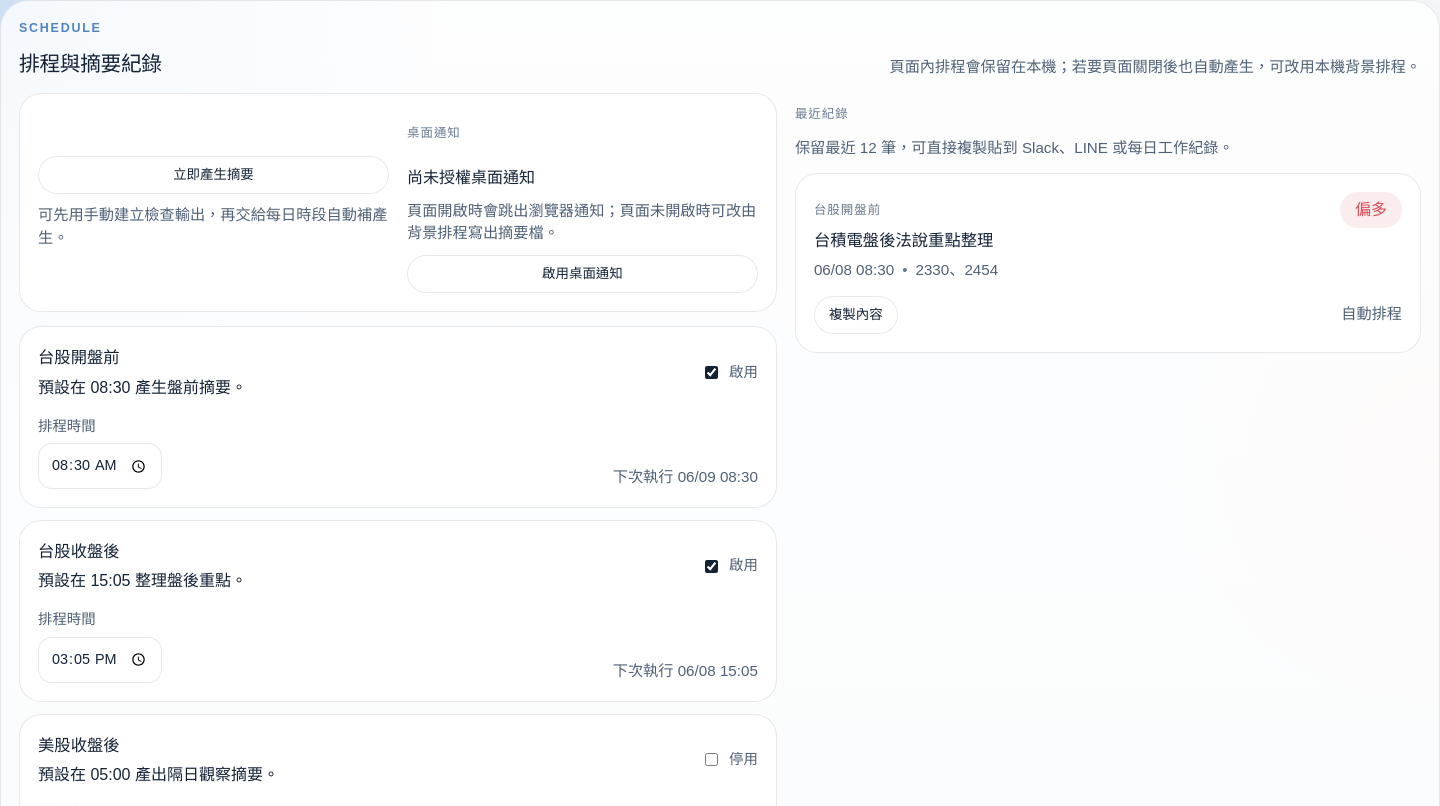
Test case: SchedulePanel › requests browser notification permission from the schedule panel
Step 1. Click the button "啟用桌面通知" → (582, 274), box [407,255,758,293]
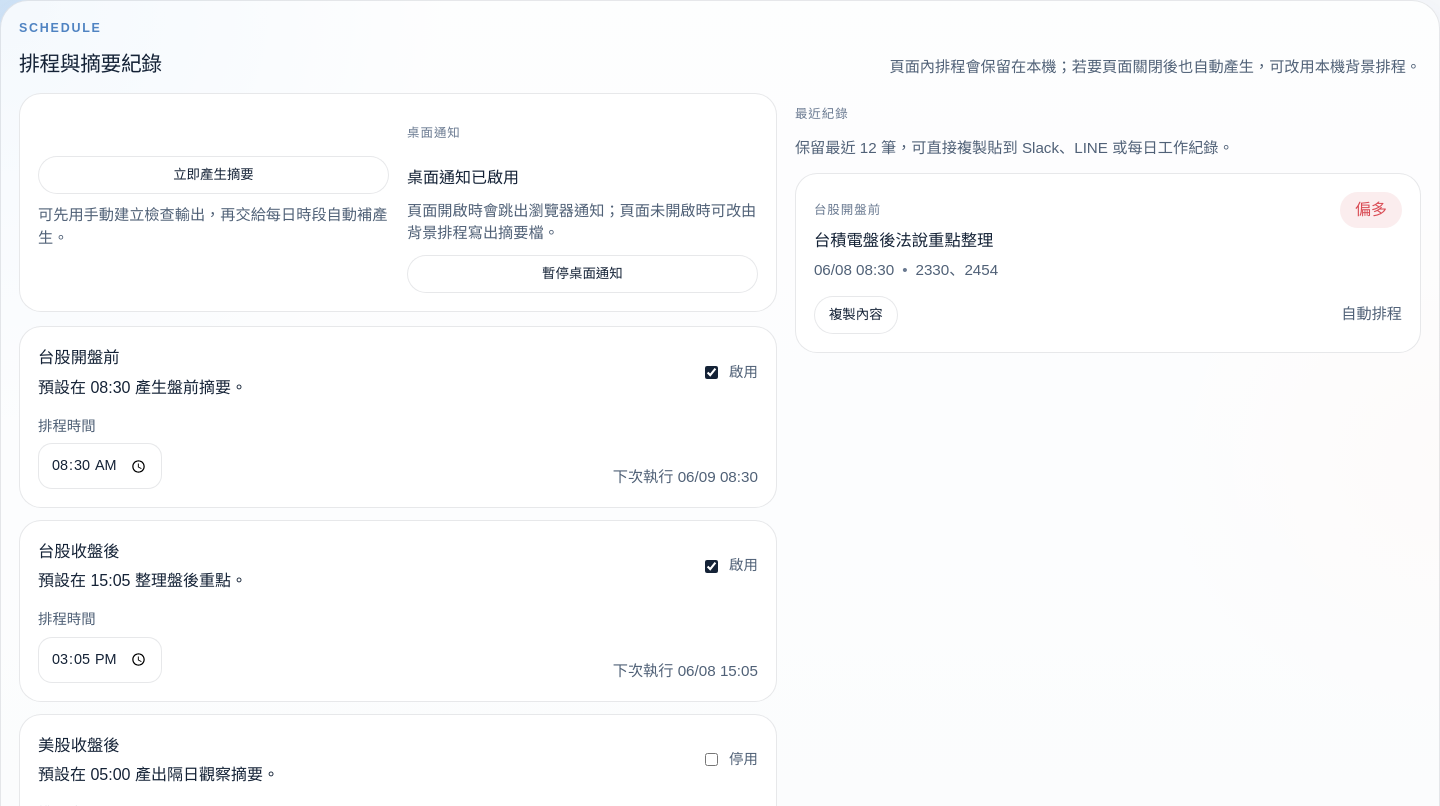
Check: the text "桌面通知已啟用" is shown, box [407,169,519,186]
